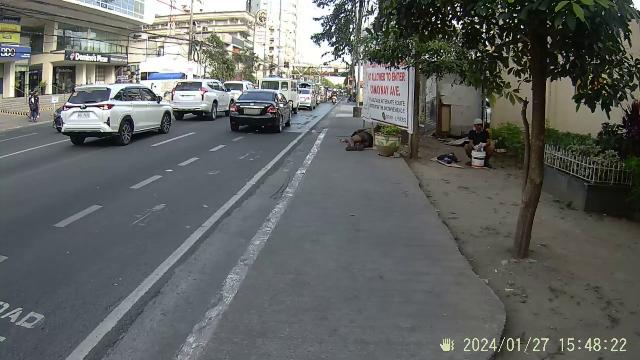potted_plant: (368, 118, 404, 158)
street_sign: (342, 50, 430, 130)
tree: (467, 6, 585, 284)
